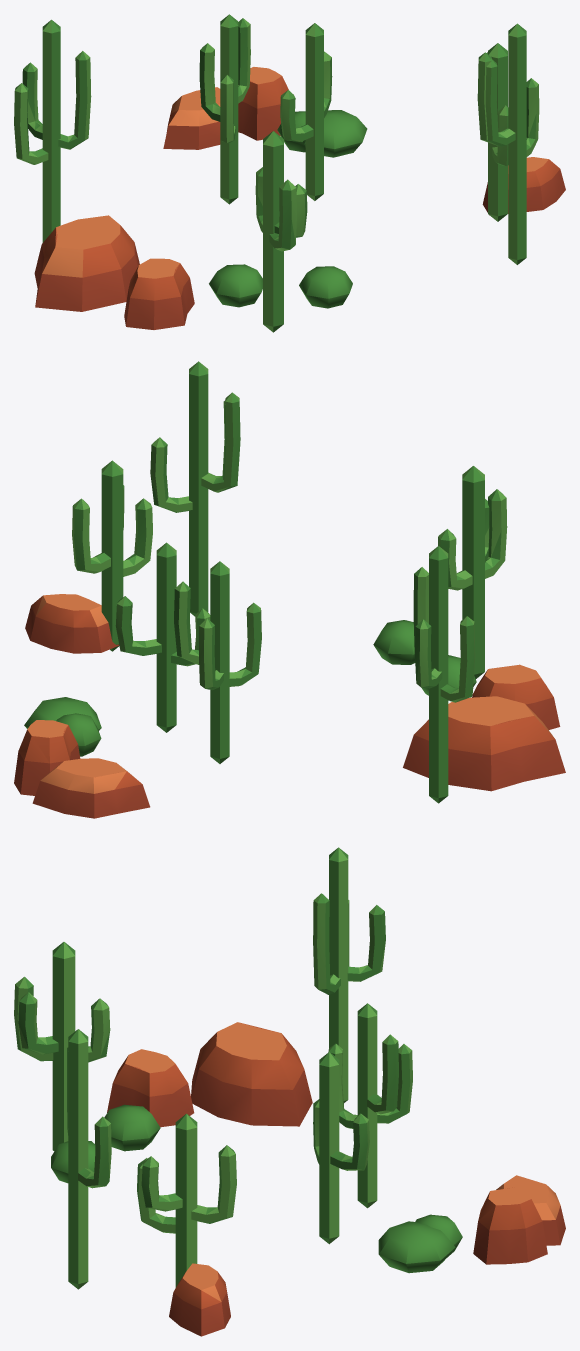
File: CactusDesierto.fbx
The picture shows the model from 3 angles, top to bottom: view 1: azimuth 30°, elevation 25°; view 2: azimuth 150°, elevation 25°; view 3: azimuth 270°, elevation 25°; orthographic projection. The views are drawn at different scales.
Parts seen in each view (by area): view 1: CactusDesierto; view 2: CactusDesierto; view 3: CactusDesierto.
Boxes of the visible parts, x1,y1,x2,y2 form: CactusDesierto: [14, 14, 565, 332]; CactusDesierto: [14, 361, 565, 818]; CactusDesierto: [14, 847, 565, 1336].
Size of the model in its own units: 32.15 by 14.41 by 27.48.
Materials: 1 (1 with a texture image).
